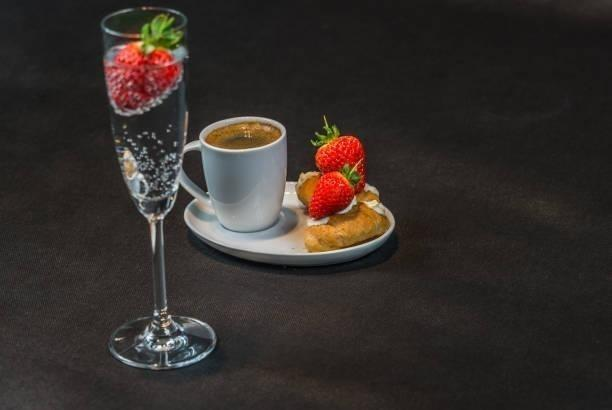cup-handle: (180, 115, 288, 232)
glass-wine: (97, 4, 214, 369)
